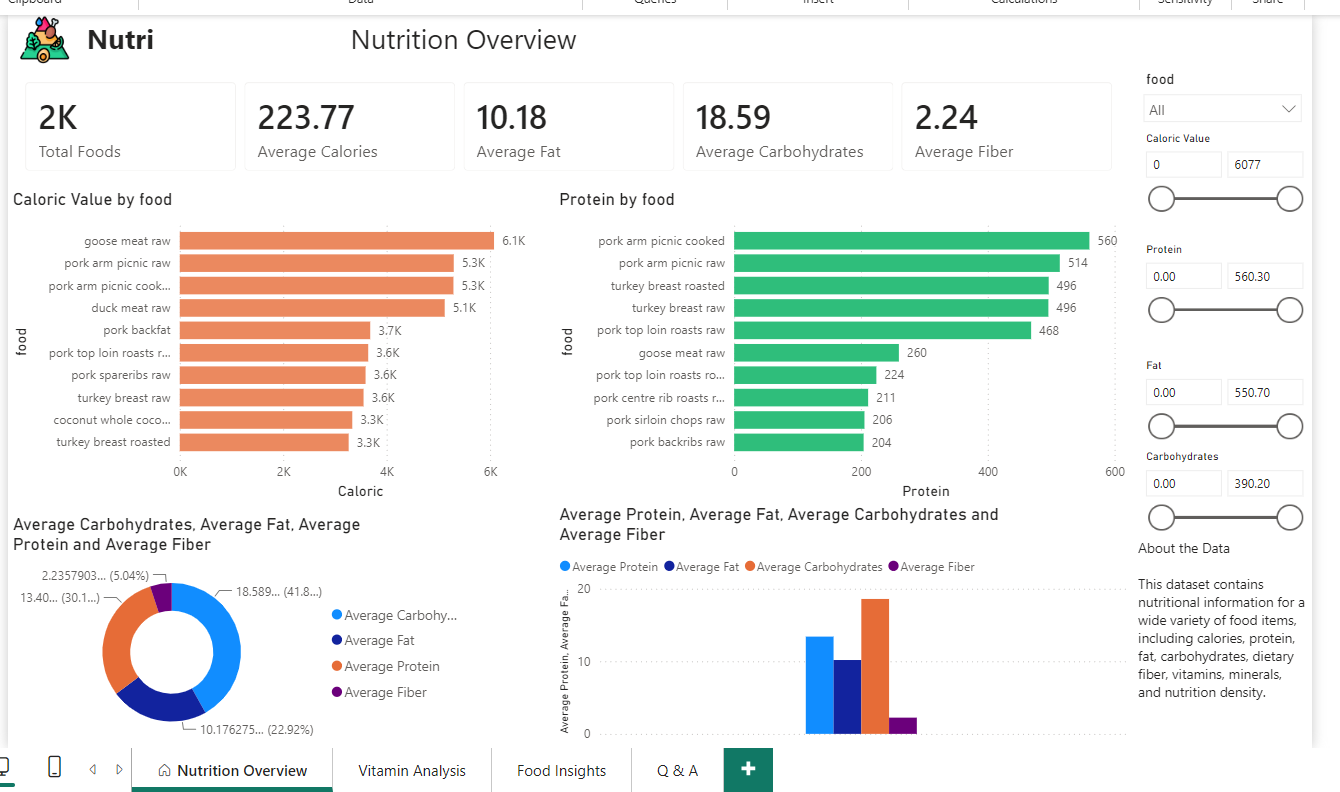

This screenshot's page, from the dashboard's own definition file:
{"tool":"powerbi","page":{"name":"Nutrition Overview","canvas":[1280,720],"ordinal":0},"visuals":[{"type":"cardVisual","fields":{"Data":["Food.Total Foods","Food.Average Calories","Food.Average Fat","Food.Average Carbohydrates","Food.Average Fiber"]},"box":[0,48.5,1104.6,121.9],"z":0},{"type":"barChart","title":"Caloric Value by food","fields":{"Category":["Food.food"],"Y":["Sum(Food.Caloric Value)"]},"box":[0,170.4,536.1,309.7],"z":1000},{"type":"barChart","title":"Protein by food","fields":{"Category":["Food.food"],"Y":["Sum(Food.Protein)"]},"box":[536.1,170.4,568.5,309.7],"z":2000},{"type":"donutChart","fields":{"Y":["Food.Average Carbohydrates","Food.Average Fat","Food.Average Protein","Food.Average Fiber"]},"box":[0,489.4,456.8,230.6],"z":3000},{"type":"clusteredColumnChart","fields":{"Y":["Food.Average Protein","Food.Average Fat","Food.Average Carbohydrates","Food.Average Fiber"]},"box":[536.1,480.2,568.5,240.1],"z":4000},{"type":"slicer","fields":{"Values":["Food.food"]},"box":[1104.6,48.5,175.4,72.1],"z":5000},{"type":"slicer","fields":{"Values":["Food.Caloric Value"]},"box":[1104.6,109.5,175.4,98.3],"z":6000},{"type":"slicer","fields":{"Values":["Food.Protein"]},"box":[1104.6,218.9,175.4,113.2],"z":7000},{"type":"slicer","fields":{"Values":["Food.Fat"]},"box":[1104.6,332.1,175.4,89.6],"z":8000},{"type":"slicer","fields":{"Values":["Food.Carbohydrates"]},"box":[1104.6,421.7,175.4,87.1],"z":9000},{"type":"textbox","box":[1104.6,508.8,175.4,211.5],"z":10000},{"type":"textbox","box":[72.1,0,93.3,48.5],"z":11000},{"type":"textbox","box":[330.9,0,261.2,48.5],"z":12000},{"type":"image","box":[0,0,72.1,48.5],"z":13000}]}

Visuals, with their boxes on the page's 1280x720 design canvas (x1, y1, x2, y2). These are canvas units, not pixel positions in the 1340x792 screenshot, which may show the page scaled, cropped or inside an application window:
cardVisual - Food.Total Foods x Food.Average Calories: 0,48,1105,170
"Caloric Value by food" barChart: 0,170,536,480
"Protein by food" barChart: 536,170,1105,480
donutChart - Food.Average Carbohydrates x Food.Average Fat: 0,489,457,720
clusteredColumnChart - Food.Average Protein x Food.Average Fat: 536,480,1105,720
slicer - Food.food: 1105,48,1280,121
slicer - Food.Caloric Value: 1105,110,1280,208
slicer - Food.Protein: 1105,219,1280,332
slicer - Food.Fat: 1105,332,1280,422
slicer - Food.Carbohydrates: 1105,422,1280,509
textbox: 1105,509,1280,720
textbox: 72,0,165,48
textbox: 331,0,592,48
image: 0,0,72,48
